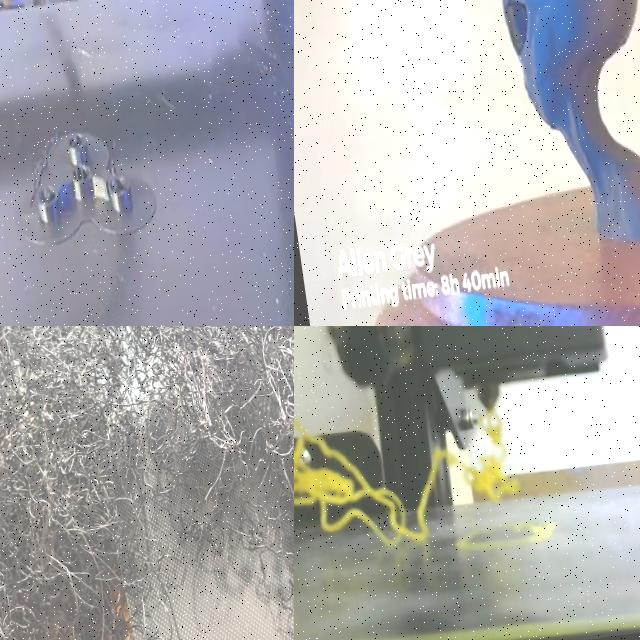spaghetti: (0, 326, 294, 640), (294, 406, 520, 547)
